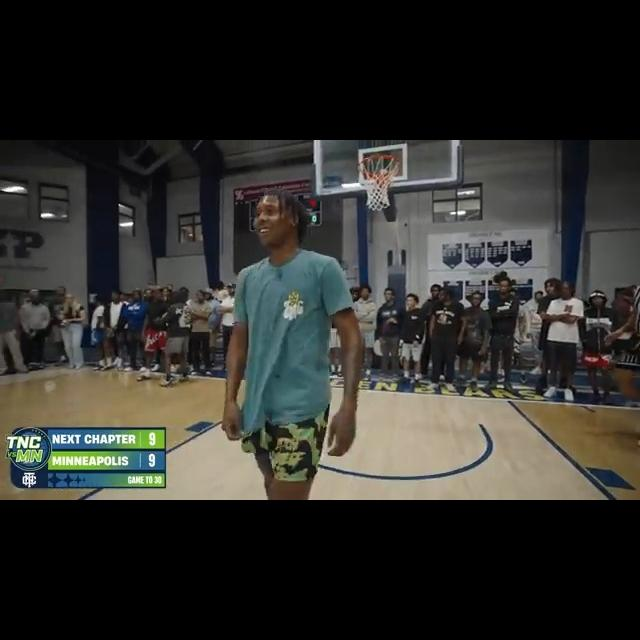hoop: (360, 152, 399, 213)
